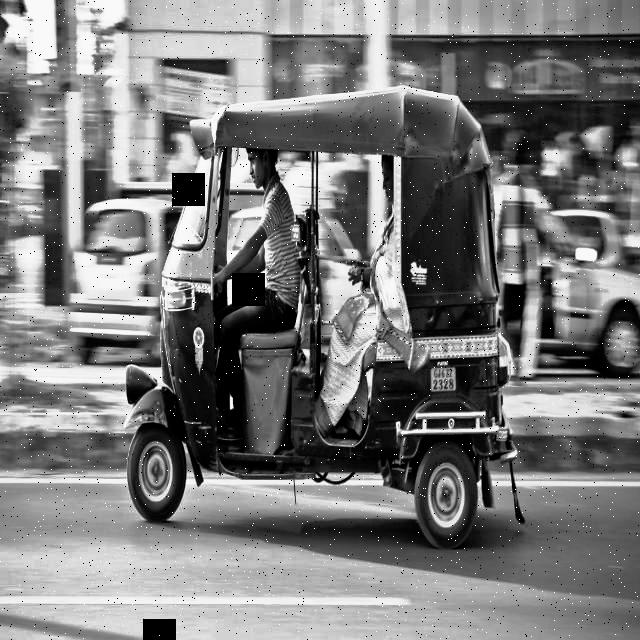Auto-Rickshaw: (126, 73, 536, 575)
